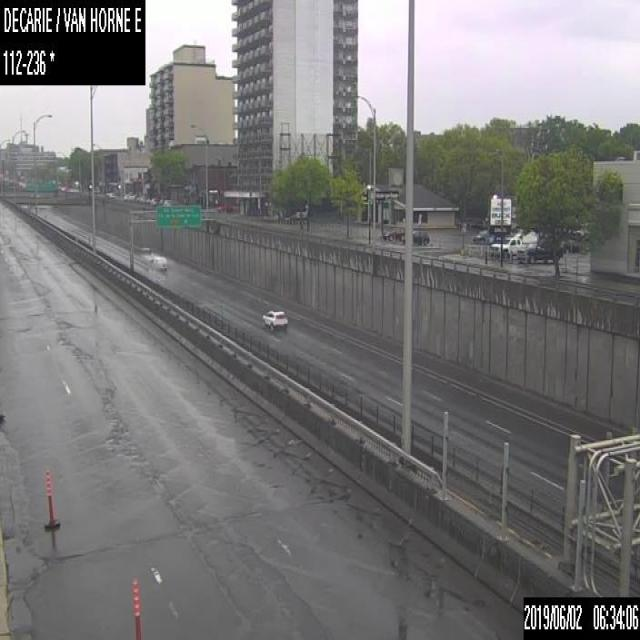construction: (43, 468, 59, 528), (131, 573, 142, 639)
vehicle: (490, 228, 538, 257), (516, 235, 562, 262), (261, 308, 287, 328), (401, 230, 428, 245), (379, 224, 404, 240), (149, 255, 166, 269), (472, 228, 487, 241)
